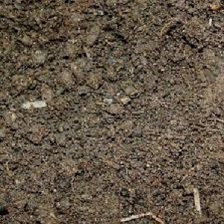loamy_soil: (12, 22, 215, 199)
